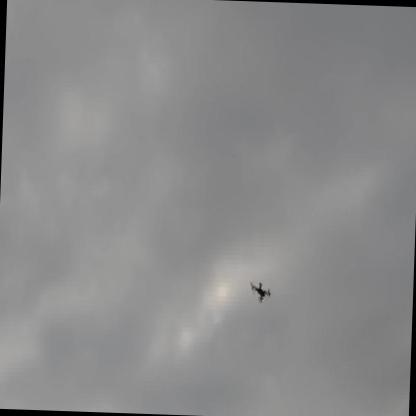drone: (247, 274, 277, 310)
